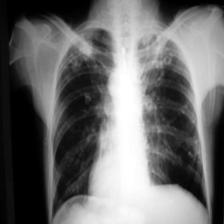tuberculosis: (46, 25, 211, 224)
